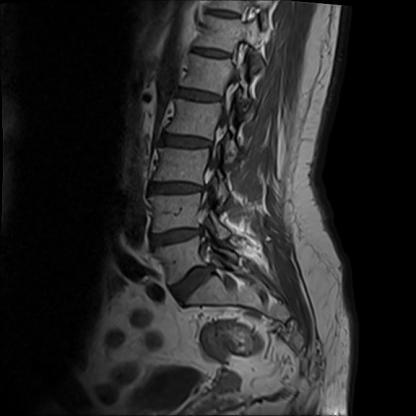Disc Bulgerotation: (145, 180, 205, 202), (148, 225, 205, 248), (160, 133, 215, 154)
Disc Protrusionrotation: (166, 268, 221, 299)
